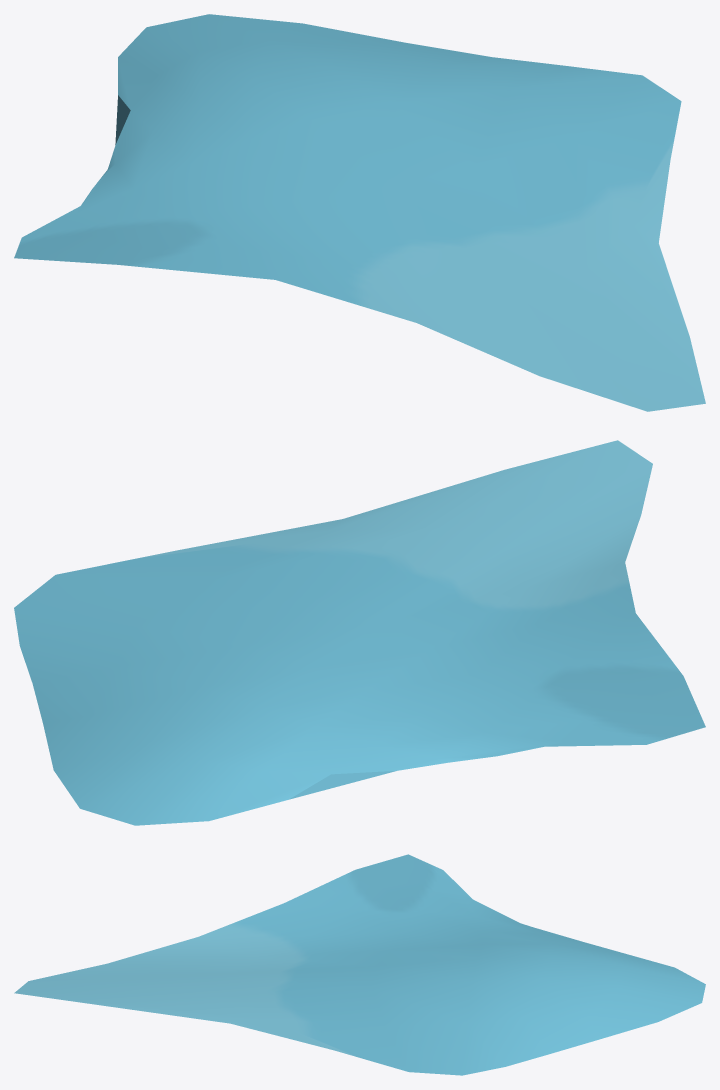
File: Mod_Water_03.fbx
The picture shows the model from 3 angles, top to bottom: view 1: azimuth 30°, elevation 25°; view 2: azimuth 150°, elevation 25°; view 3: azimuth 270°, elevation 25°; orthographic projection. The views are drawn at different scales.
Parts seen in each view (by area): view 1: Mod_Water_03; view 2: Mod_Water_03; view 3: Mod_Water_03.
Boxes of the visible parts, bbox=[...] form: Mod_Water_03: bbox=[14, 14, 705, 411]; Mod_Water_03: bbox=[14, 440, 705, 825]; Mod_Water_03: bbox=[14, 854, 705, 1075].
Bounding box in the file's own units: 153 × 8.71 × 208.
